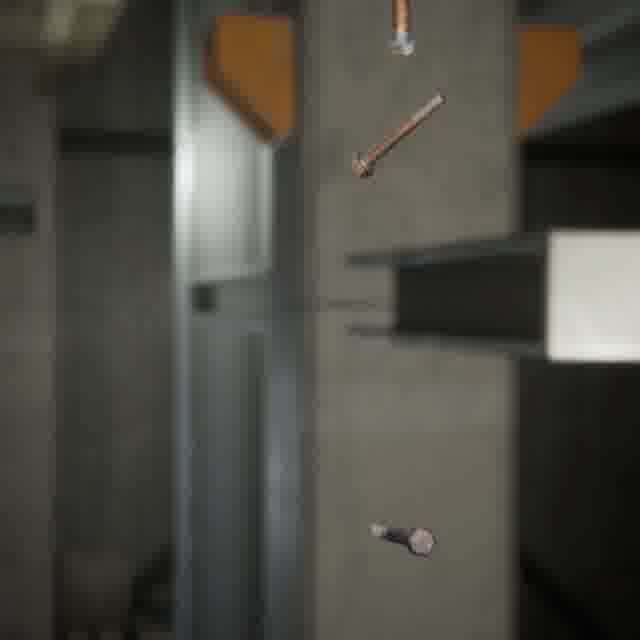bolt: (345, 87, 450, 182), (365, 517, 440, 561), (384, 0, 419, 59)
